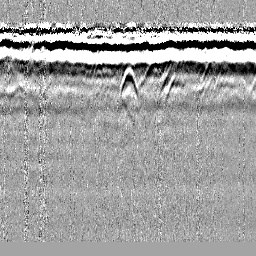cavity: (119, 62, 139, 98)
